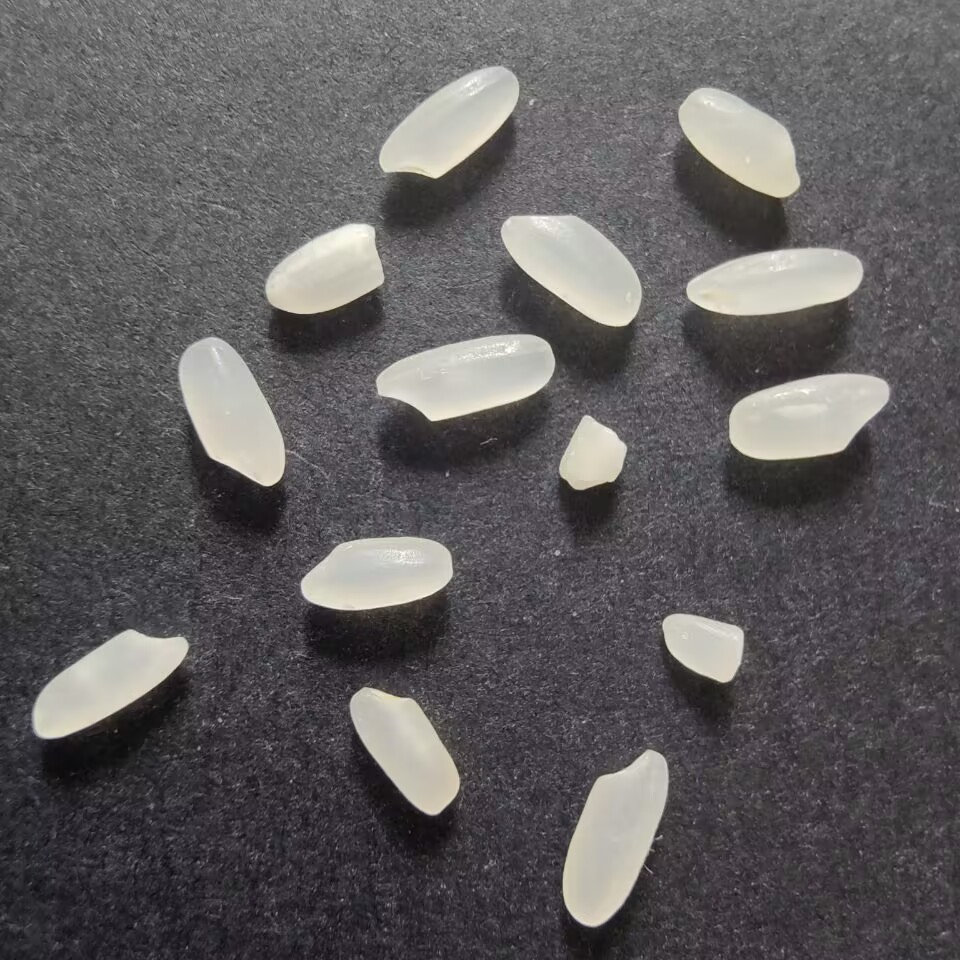broken: (255, 218, 389, 322), (658, 611, 752, 689), (553, 407, 630, 497)
rice: (553, 743, 676, 935), (25, 622, 190, 744), (175, 333, 292, 492), (367, 331, 560, 426), (370, 59, 520, 181), (497, 210, 644, 333), (346, 680, 463, 822), (717, 372, 896, 463), (675, 86, 807, 198), (679, 241, 868, 318), (291, 529, 457, 613)
